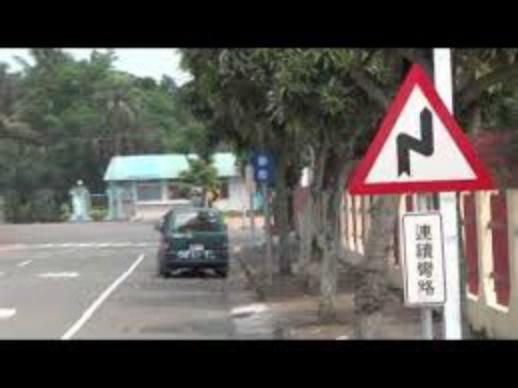double_bend_right: (344, 58, 498, 195)
